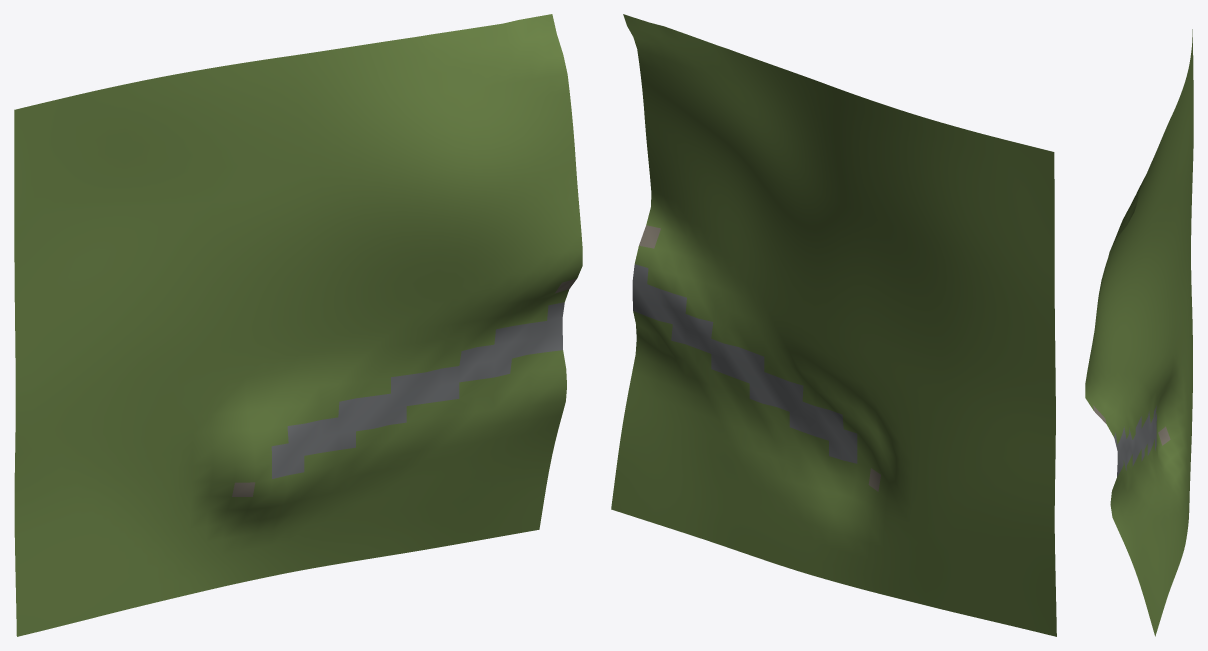
Rendered from island_terrain_23_08.obj.
The picture shows the model from 3 angles, left to right: view 1: azimuth 30°, elevation 25°; view 2: azimuth 150°, elevation 25°; view 3: azimuth 270°, elevation 25°; orthographic projection. The views are drawn at different scales.
Parts seen in each view (by area): view 1: island_terrain_23_08; view 2: island_terrain_23_08; view 3: island_terrain_23_08.
Boxes of the visible parts, left/top/right/bottom form: island_terrain_23_08: left=14, top=14, right=582, bottom=636; island_terrain_23_08: left=611, top=14, right=1056, bottom=636; island_terrain_23_08: left=1085, top=29, right=1193, bottom=636.
Size of the model in its own units: 256 by 256 by 59.31.
